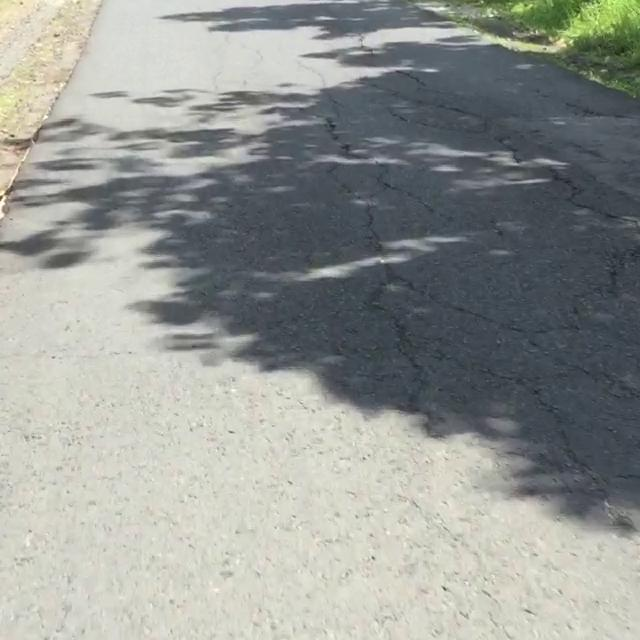retak_memanjang: (276, 84, 417, 314), (528, 402, 640, 640), (487, 116, 613, 230)
